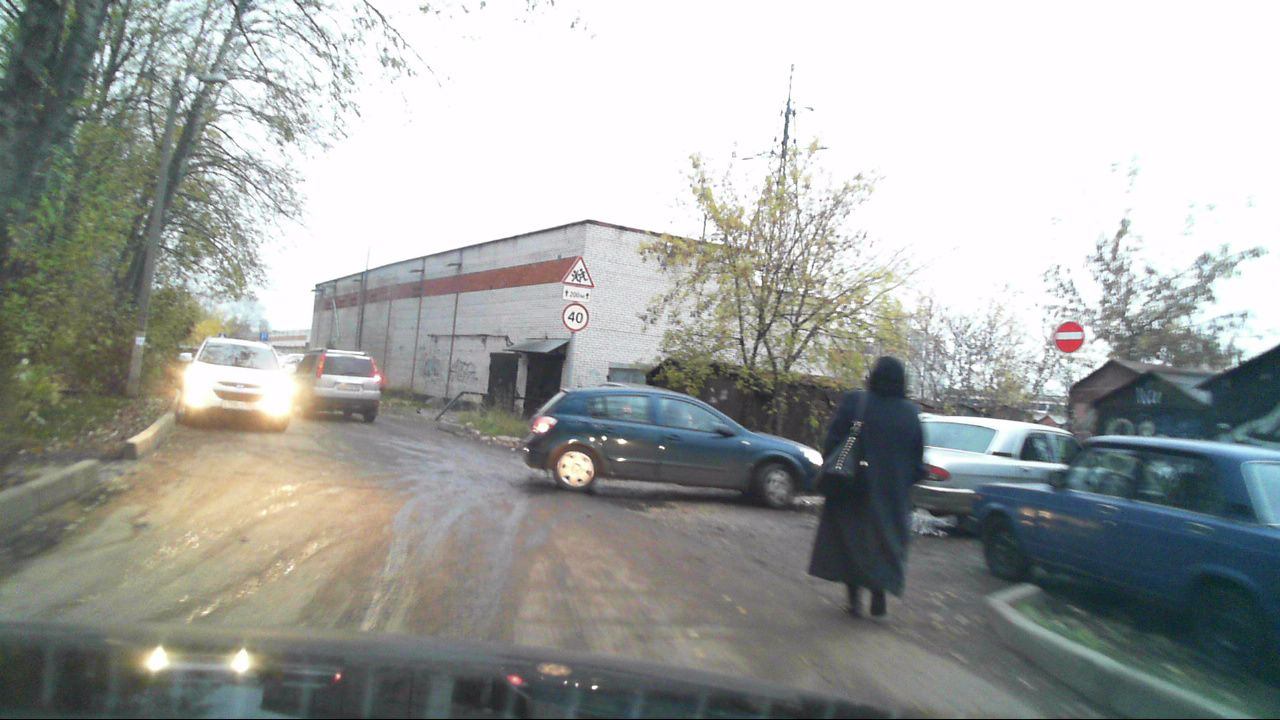speed_warning_40: (562, 304, 589, 330)
